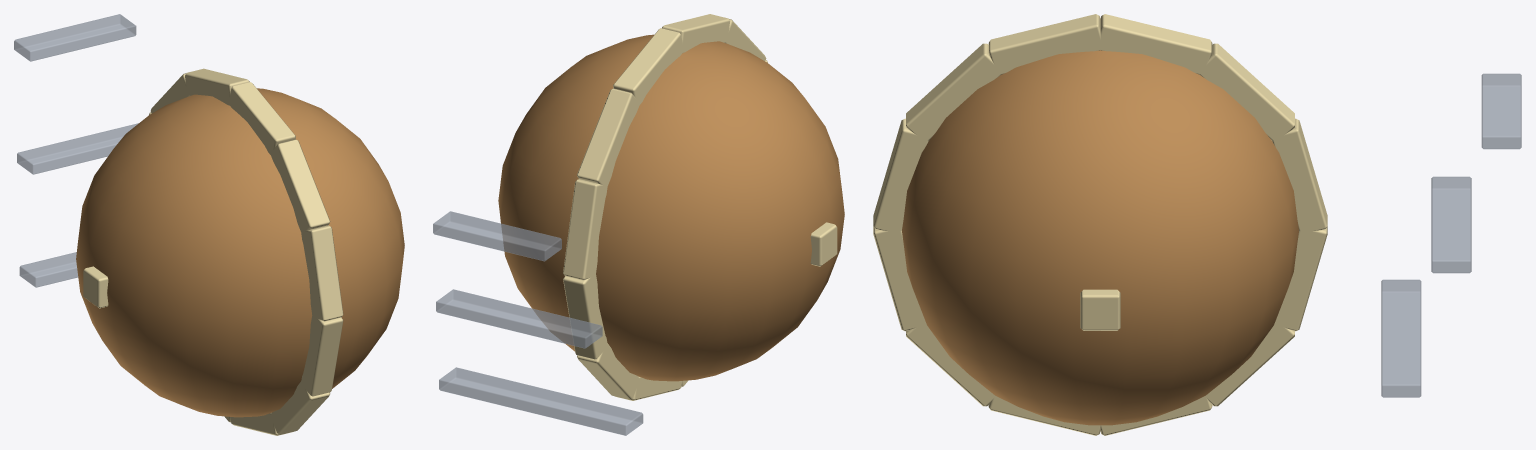
The model's file is crate_roll.glb.
3 renders of one model, left to right at view 1: azimuth 30°, elevation 25°; view 2: azimuth 150°, elevation 25°; view 3: azimuth 270°, elevation 25°, orthographic. The views are drawn at different scales.
Visible parts, largest first — view 1: ball, speed_2, tape_ring_0, tape_ring_1, speed_1, tape_ring_11, tape_ring_2, tape_ring_10, speed_0, tape_ring_3, tape_ring_x, tape_ring_9 (+1 smaller); view 2: ball, speed_0, speed_1, speed_2, tape_ring_5, tape_ring_4, tape_ring_6, tape_ring_3, tape_ring_7, tape_ring_2, tape_ring_x, tape_ring_8 (+1 smaller); view 3: ball, speed_0, speed_1, tape_ring_3, tape_ring_2, tape_ring_4, tape_ring_1, speed_2, tape_ring_0, tape_ring_5, tape_ring_11, tape_ring_6 (+5 smaller).
Part boxes in pixels (<box>): ball: <box>76,88,404,417</box>; speed_2: <box>14,14,136,61</box>; tape_ring_0: <box>301,225,343,321</box>; tape_ring_1: <box>270,139,330,231</box>; speed_1: <box>17,123,138,174</box>; tape_ring_11: <box>301,315,343,396</box>; tape_ring_2: <box>229,82,295,156</box>; tape_ring_10: <box>271,381,330,434</box>; speed_0: <box>19,252,78,287</box>; tape_ring_3: <box>185,68,249,105</box>; tape_ring_x: <box>83,266,108,308</box>; tape_ring_9: <box>230,413,293,435</box>; ball: <box>498,34,844,381</box>; speed_0: <box>439,367,643,435</box>; speed_1: <box>436,289,602,348</box>; speed_2: <box>433,211,561,261</box>; tape_ring_5: <box>563,179,607,280</box>; tape_ring_4: <box>577,88,639,188</box>; tape_ring_6: <box>563,272,607,359</box>; tape_ring_3: <box>613,28,682,104</box>; tape_ring_7: <box>577,343,639,399</box>; tape_ring_2: <box>662,14,729,52</box>; tape_ring_x: <box>810,222,837,266</box>; tape_ring_8: <box>615,377,681,400</box>; ball: <box>902,50,1298,425</box>; speed_0: <box>1381,279,1421,397</box>; speed_1: <box>1431,176,1471,273</box>; tape_ring_3: <box>1098,14,1212,74</box>; tape_ring_2: <box>988,14,1102,74</box>; tape_ring_4: <box>1199,43,1294,141</box>; tape_ring_1: <box>906,43,1001,140</box>; speed_2: <box>1481,73,1521,149</box>; tape_ring_0: <box>873,118,928,233</box>; tape_ring_5: <box>1272,118,1327,233</box>; tape_ring_11: <box>873,226,924,331</box>; tape_ring_6: <box>1276,226,1327,331</box>.
Bounding box in the file's own units: 0.84 × 0.9062 × 1.29.
